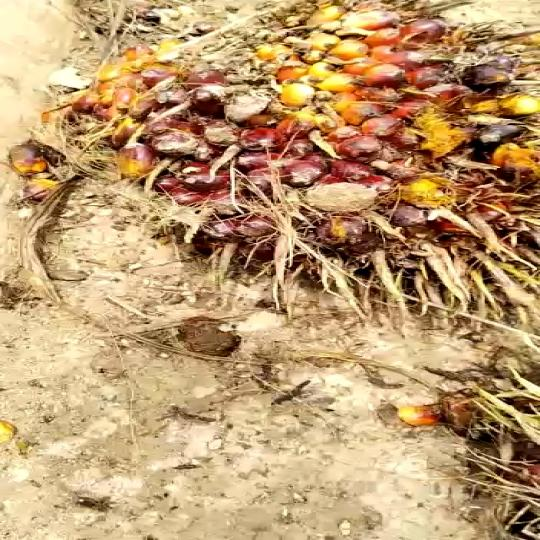masak: (96, 0, 540, 312)
